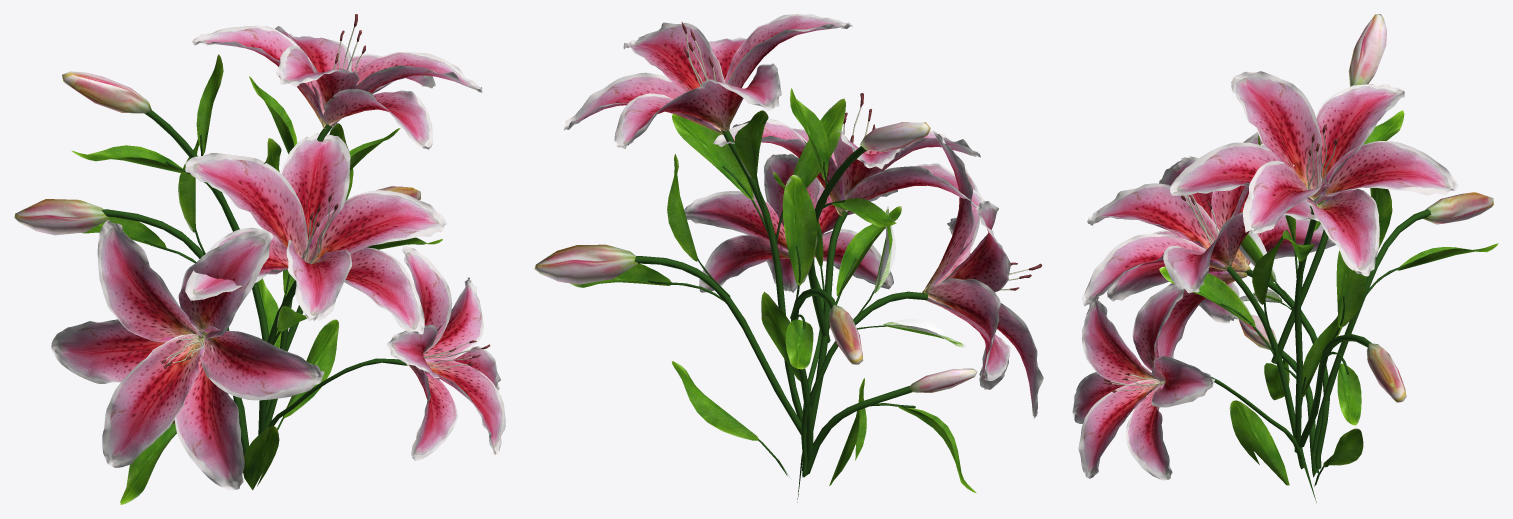
The picture shows the model from 3 angles, left to right: view 1: azimuth 30°, elevation 25°; view 2: azimuth 150°, elevation 25°; view 3: azimuth 270°, elevation 25°; orthographic projection. The views are drawn at different scales.
Visible parts, largest first — view 1: 45755df4; view 2: 45755df4; view 3: 45755df4.
Boxes of the visible parts, x1,y1,x2,y2 form: 45755df4: (14, 14, 505, 504); 45755df4: (534, 14, 1043, 502); 45755df4: (1072, 14, 1498, 502).
Size of the model in its own units: 0.183 by 0.1924 by 0.1718.
6 materials, 3 textured.
